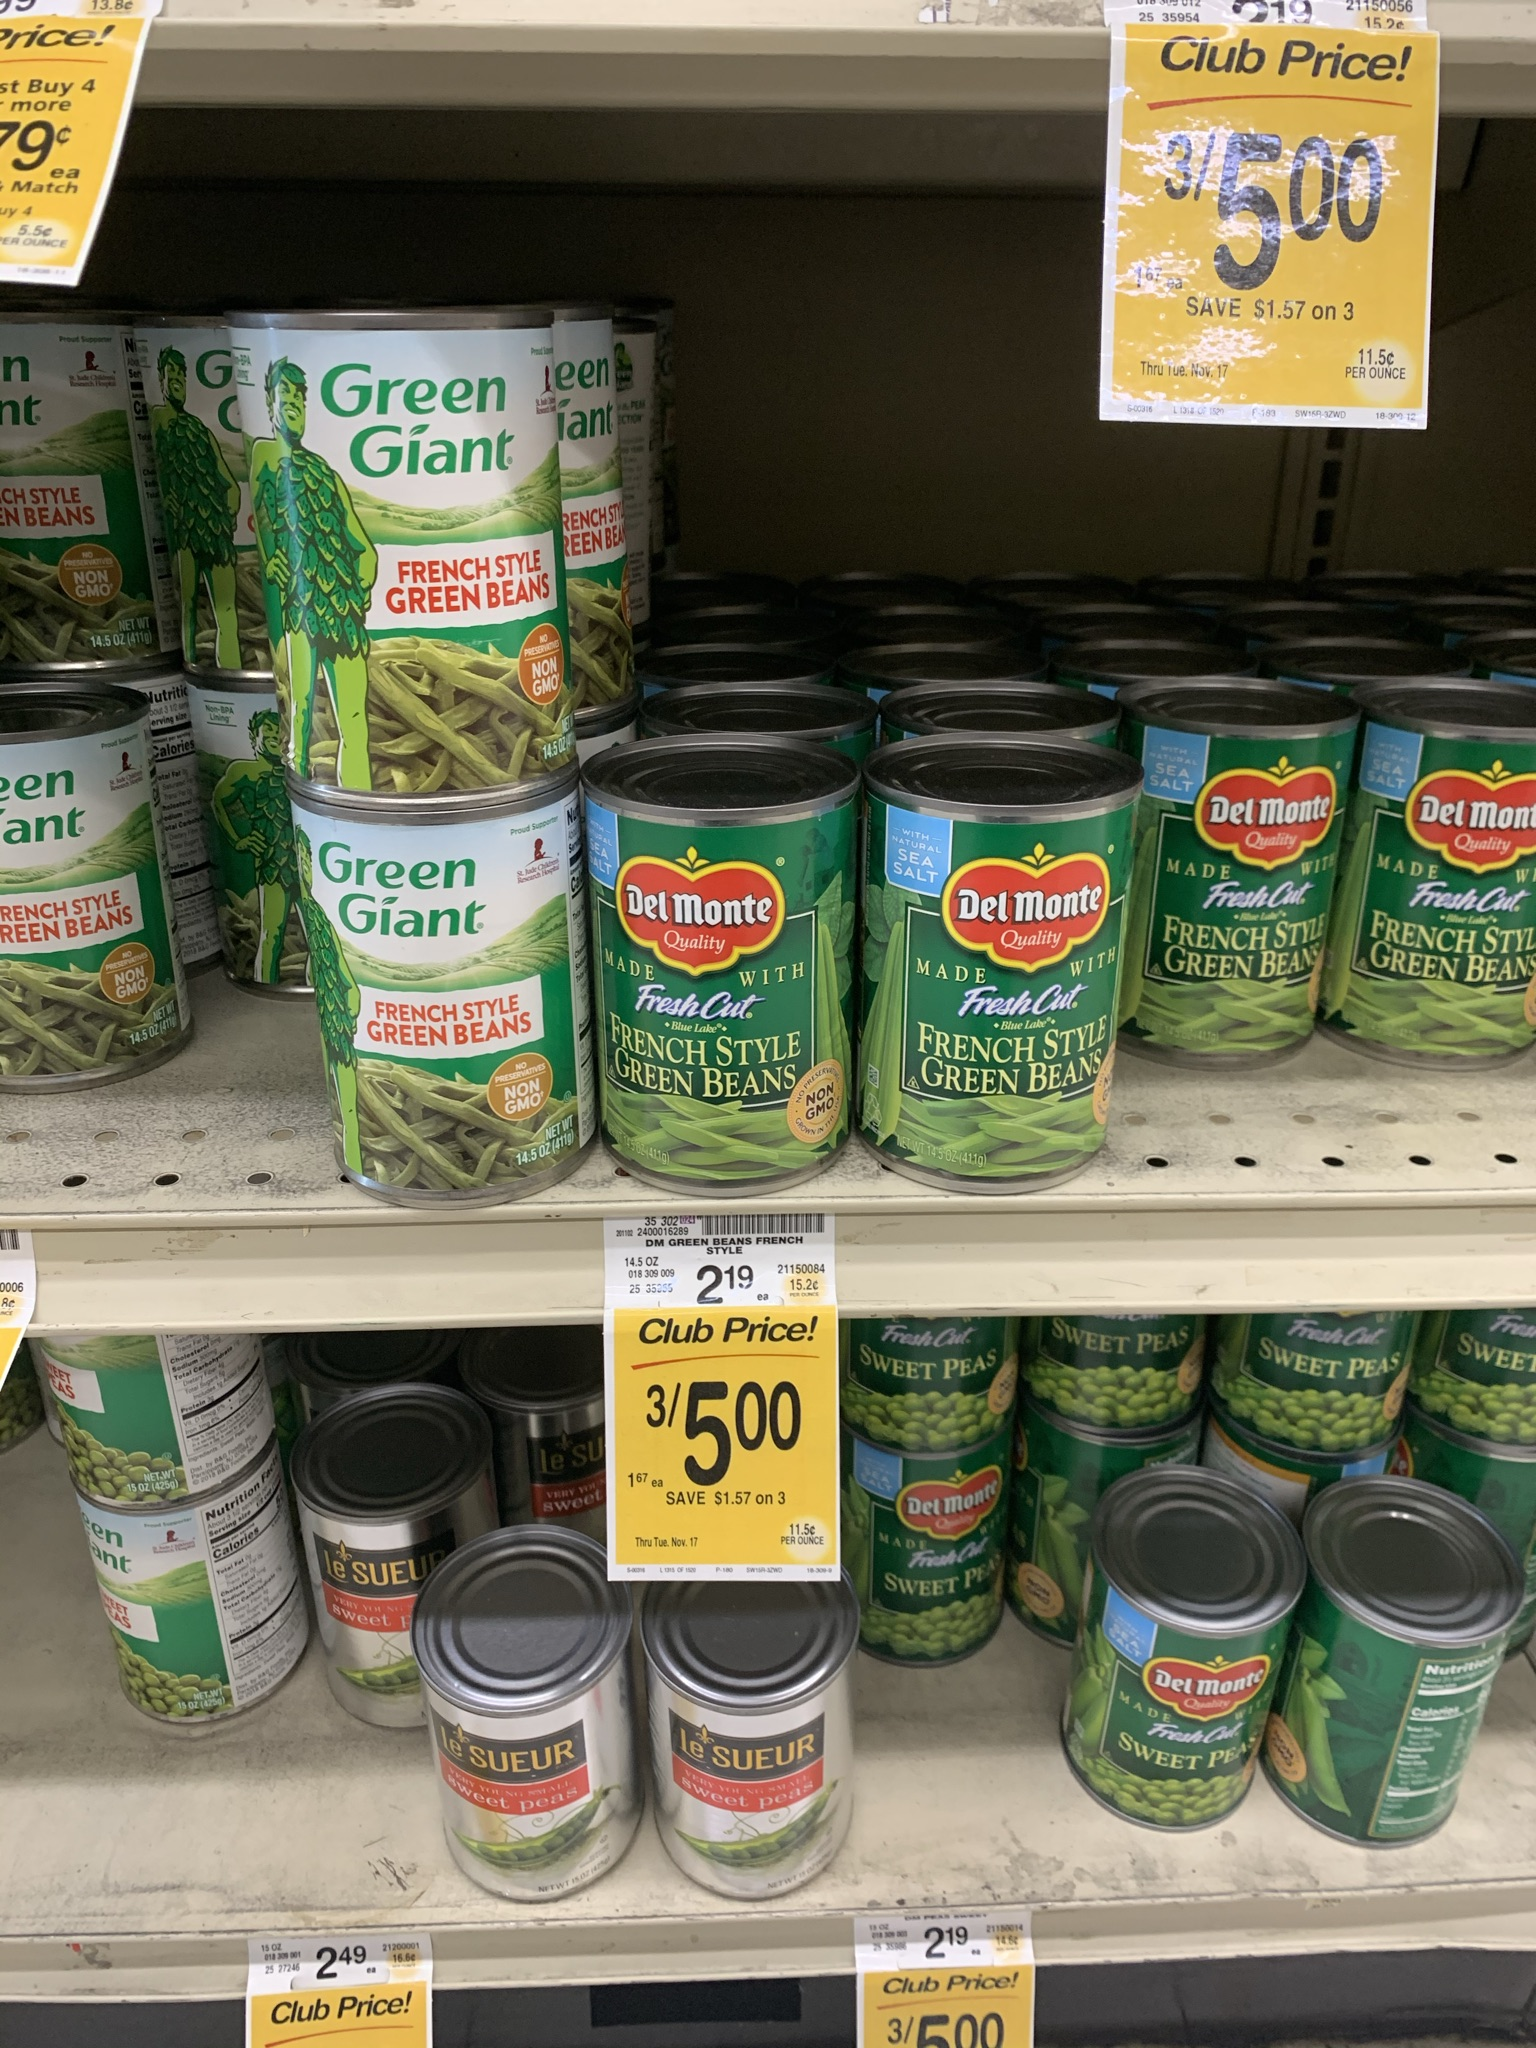can: (278, 327, 563, 774), (318, 821, 594, 1161), (874, 787, 1107, 1143), (624, 789, 836, 1150), (1149, 722, 1317, 1050), (1368, 732, 1536, 1050), (2, 732, 145, 1080), (666, 1605, 841, 1866), (450, 1617, 636, 1859), (1312, 1551, 1467, 1827), (1105, 1534, 1270, 1792), (2, 332, 119, 669), (106, 1530, 302, 1680)
